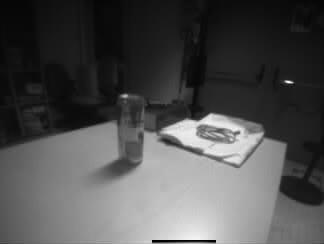Tin can: (117, 94, 145, 162)
